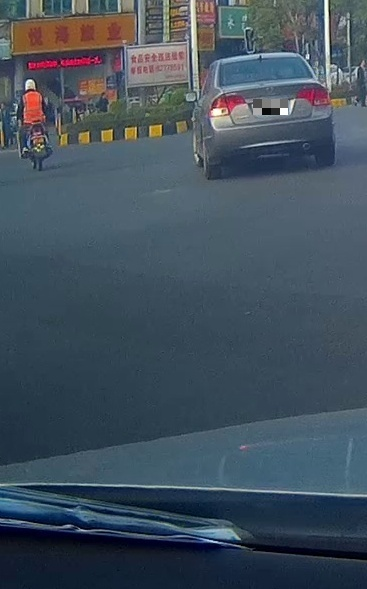L_light: (208, 92, 245, 117)
R_light: (296, 83, 330, 106)
T_light: (250, 58, 272, 64)
day-left: (208, 53, 331, 179)
plate_1: (253, 99, 288, 115)
